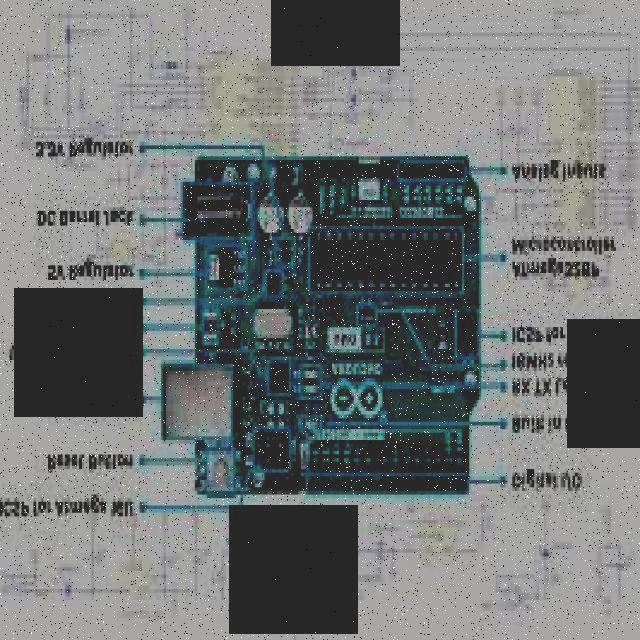arduino: (185, 156, 477, 496)
